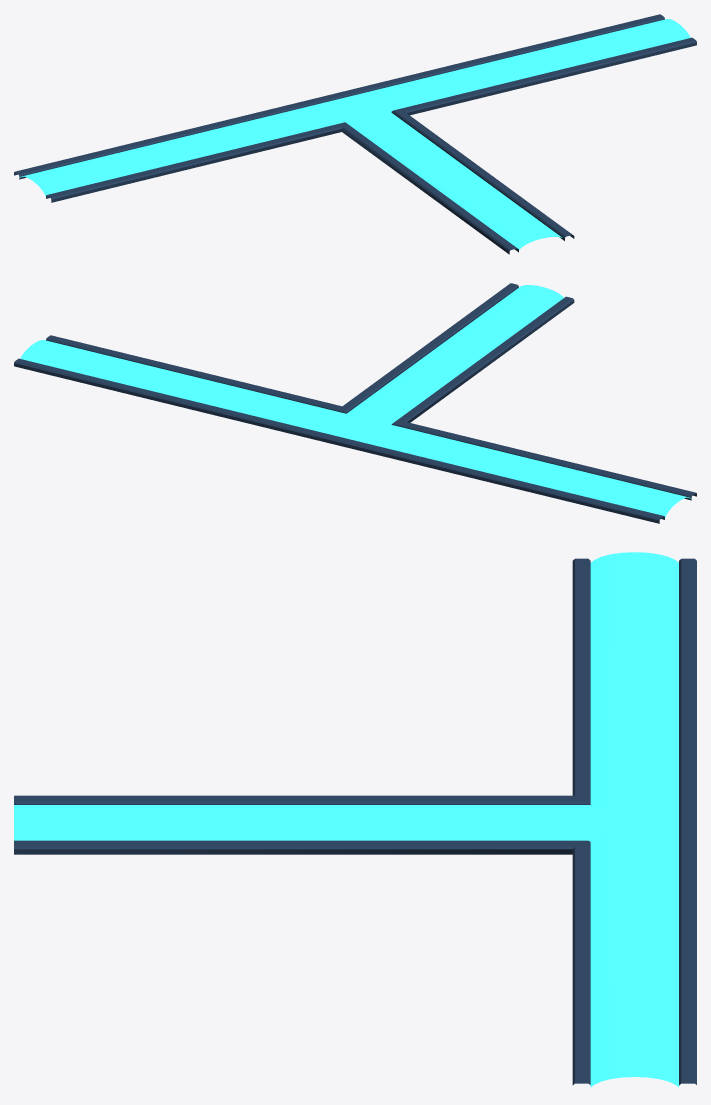
Rendered from Light_Trim_01_SquareCrossT.fbx.
3 renders of one model, top to bottom at view 1: azimuth 30°, elevation 25°; view 2: azimuth 150°, elevation 25°; view 3: azimuth 270°, elevation 25°, orthographic. The views are drawn at different scales.
Visible parts, largest first — view 1: Light_Trim_01_SquareCrossT.001; view 2: Light_Trim_01_SquareCrossT.001; view 3: Light_Trim_01_SquareCrossT.001.
Part boxes in pixels (x1=…): Light_Trim_01_SquareCrossT.001: x1=14, y1=14, x2=696, y2=254; Light_Trim_01_SquareCrossT.001: x1=14, y1=283, x2=696, y2=523; Light_Trim_01_SquareCrossT.001: x1=14, y1=552, x2=696, y2=1087.
Size of the model in its own units: 1 by 0.0123 by 0.55.
